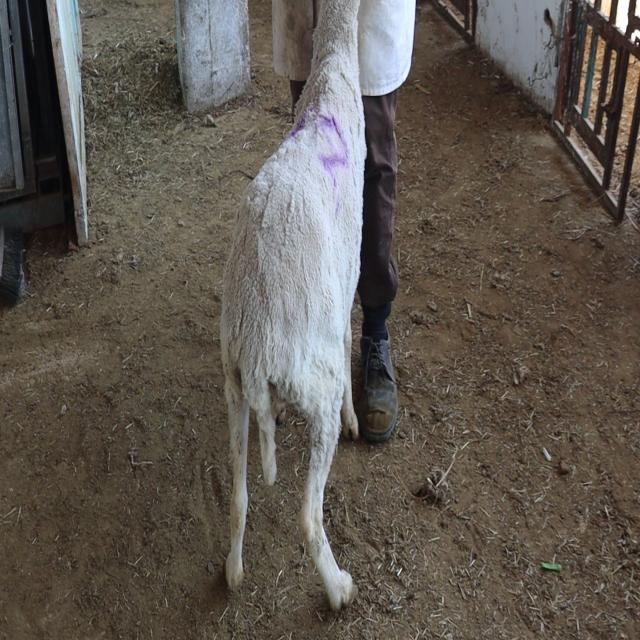Score_2: (220, 0, 365, 609)
